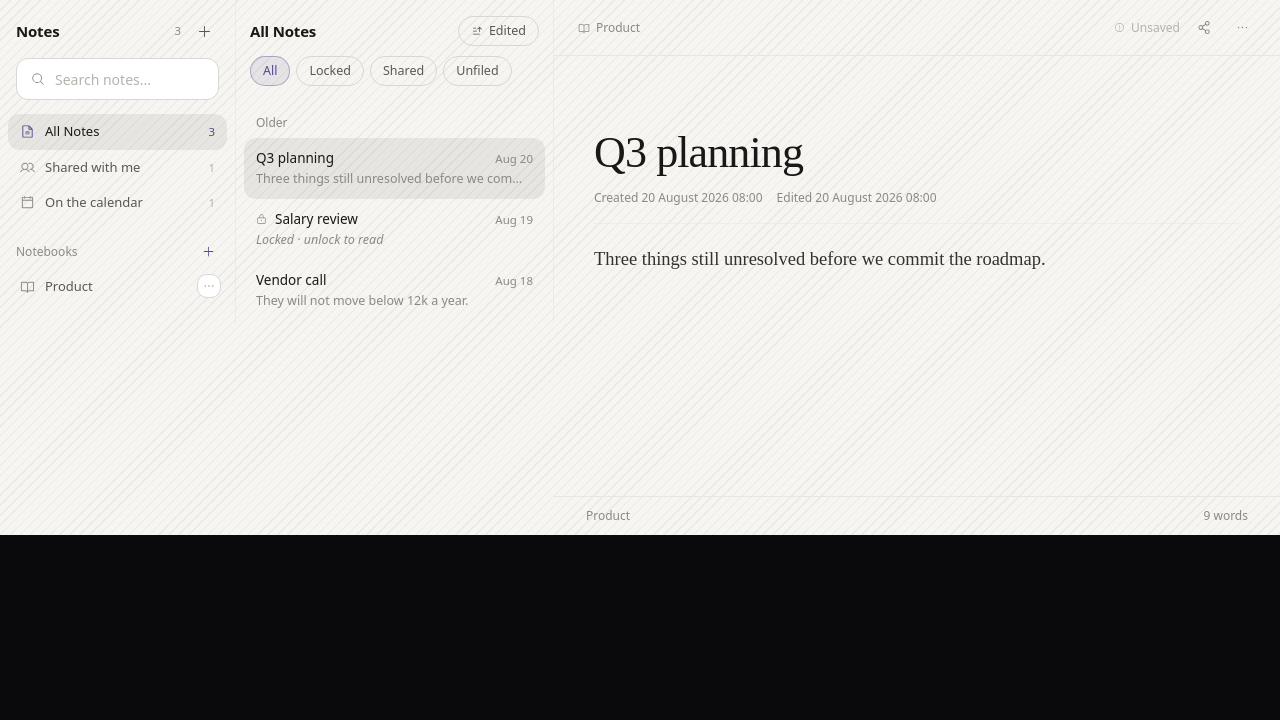
Test: NotesWorkspace › confirms a note deletion from the note's own menu
This screenshot has width=1280, height=720.
Click the button named "Note actions".
click(1242, 28)  # box [1228,14,1256,42]
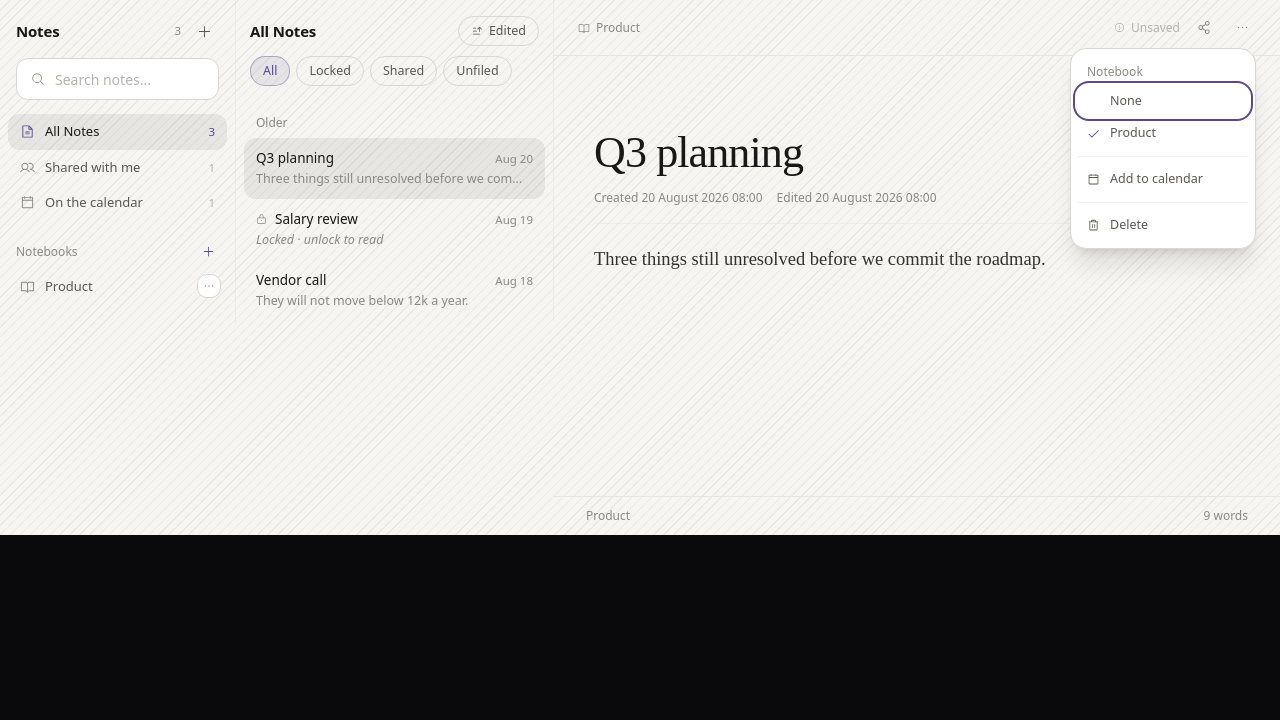
Click the menu item "Delete".
click(1163, 225)  # box [1077,209,1249,242]
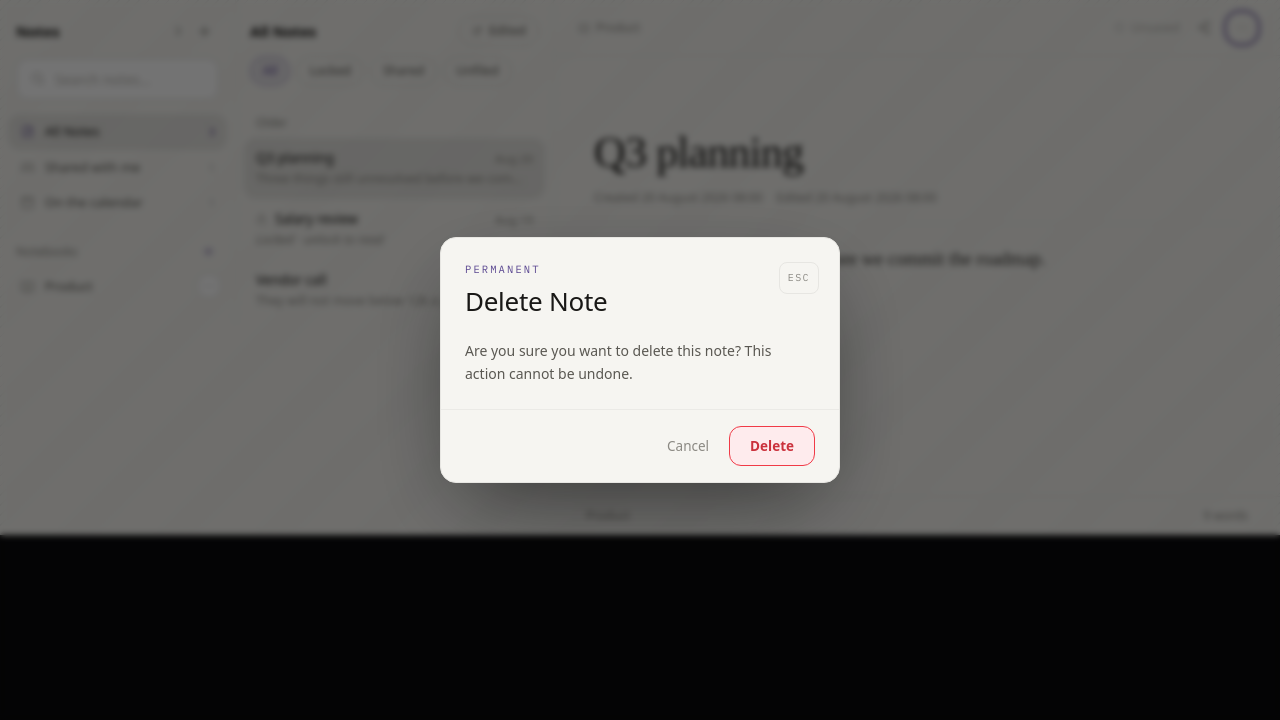
Expected: the dialog "Delete Note" is shown, [440,237,840,483]
